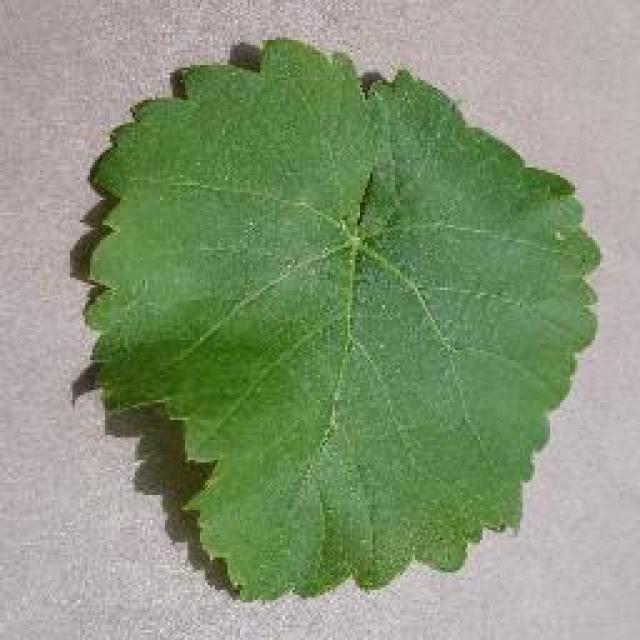Grape___healthy: (88, 40, 598, 598)
